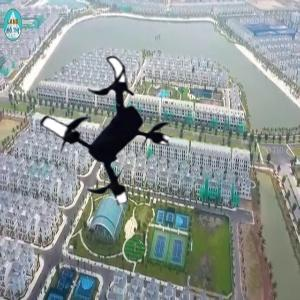drone: (29, 54, 181, 206)
